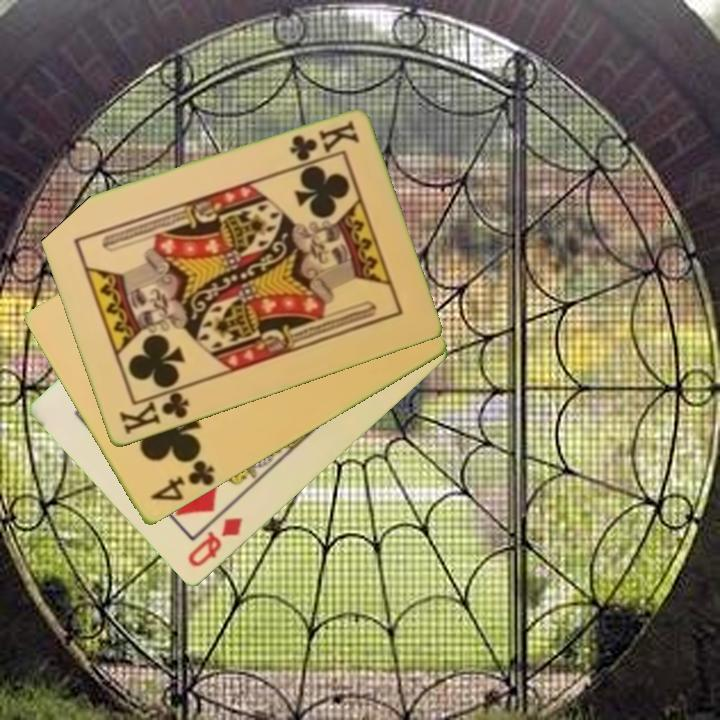4c: (146, 453, 218, 505)
Kc: (115, 384, 192, 438), (285, 117, 361, 164)
Qd: (184, 514, 246, 571)
